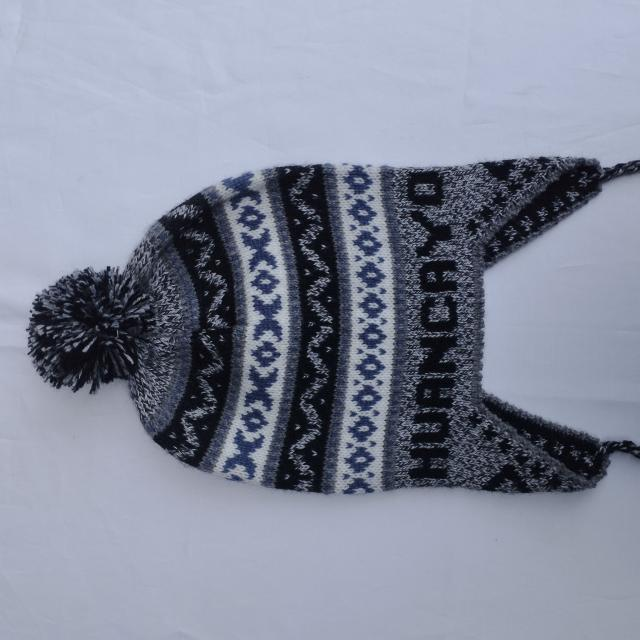Gorro: (26, 154, 638, 496)
